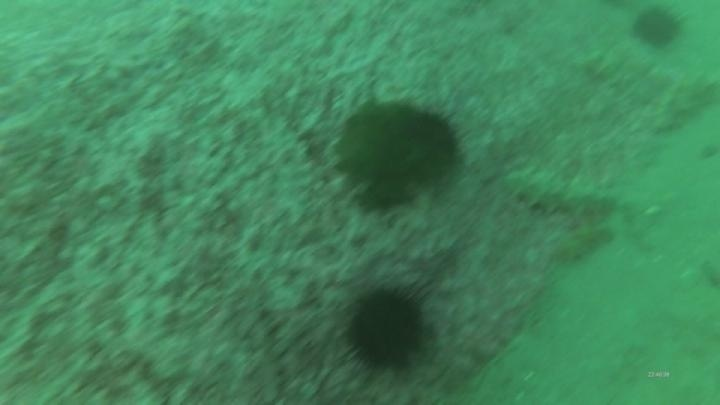echinus: (340, 281, 433, 377), (629, 4, 687, 52)
holothurian: (498, 161, 619, 222), (583, 50, 684, 112), (648, 70, 718, 136), (546, 220, 617, 267)
